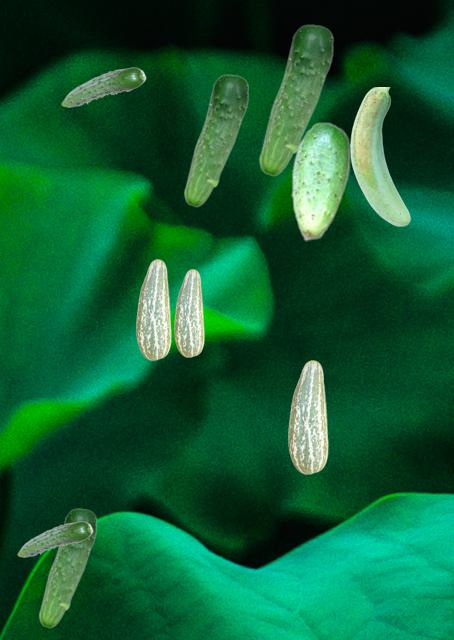cucumber: (258, 24, 333, 175), (183, 74, 248, 206), (350, 87, 409, 225), (38, 508, 96, 627), (291, 121, 349, 240), (288, 360, 327, 473), (136, 259, 170, 359), (61, 67, 145, 106), (17, 521, 92, 556), (174, 269, 203, 356)
